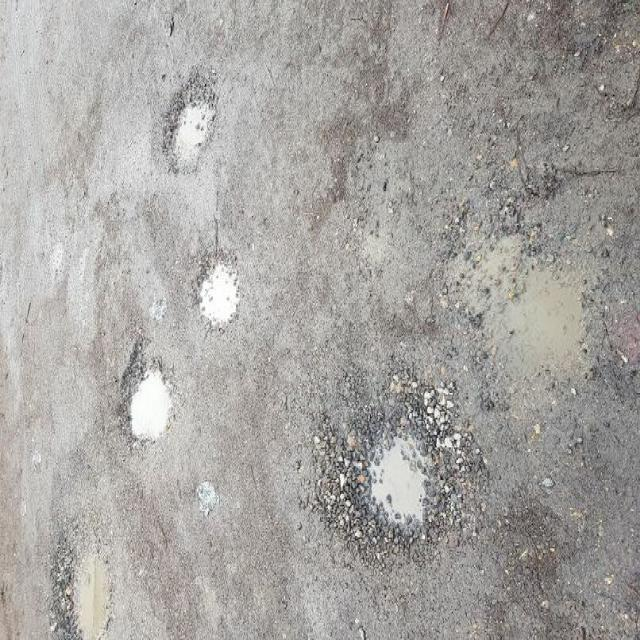Pothole: (308, 360, 481, 562), (50, 497, 121, 640), (115, 346, 179, 449), (163, 61, 220, 172), (194, 242, 243, 332)
